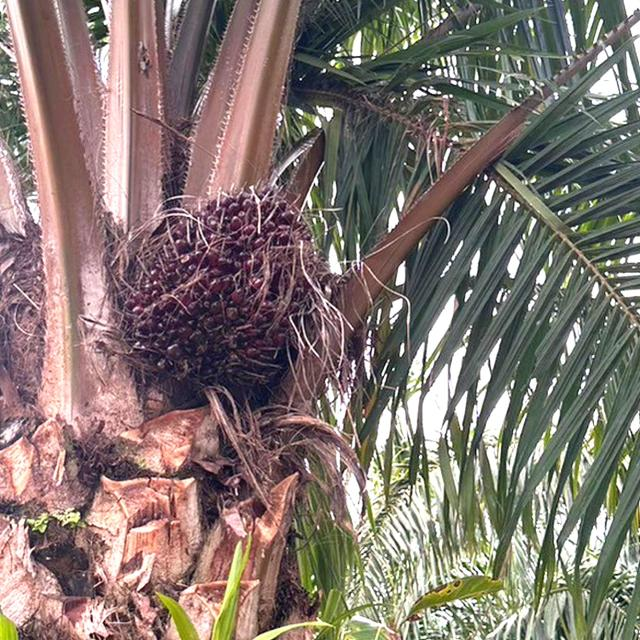ripe: (132, 174, 318, 374)
